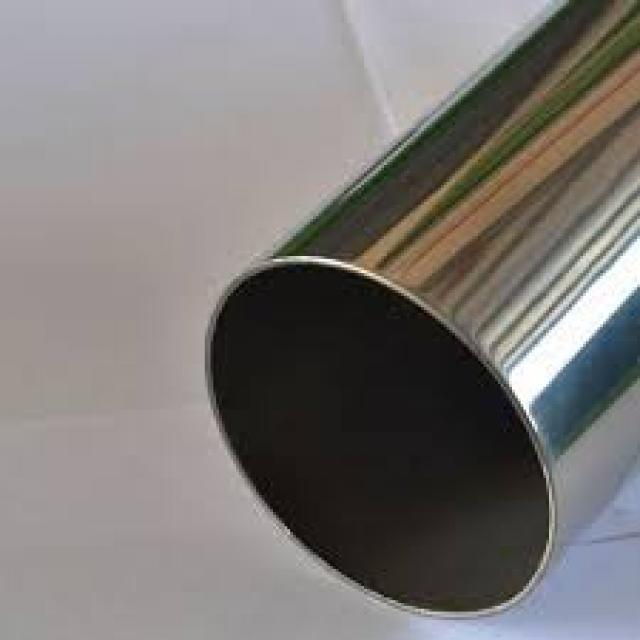pipe: (209, 258, 554, 614)
